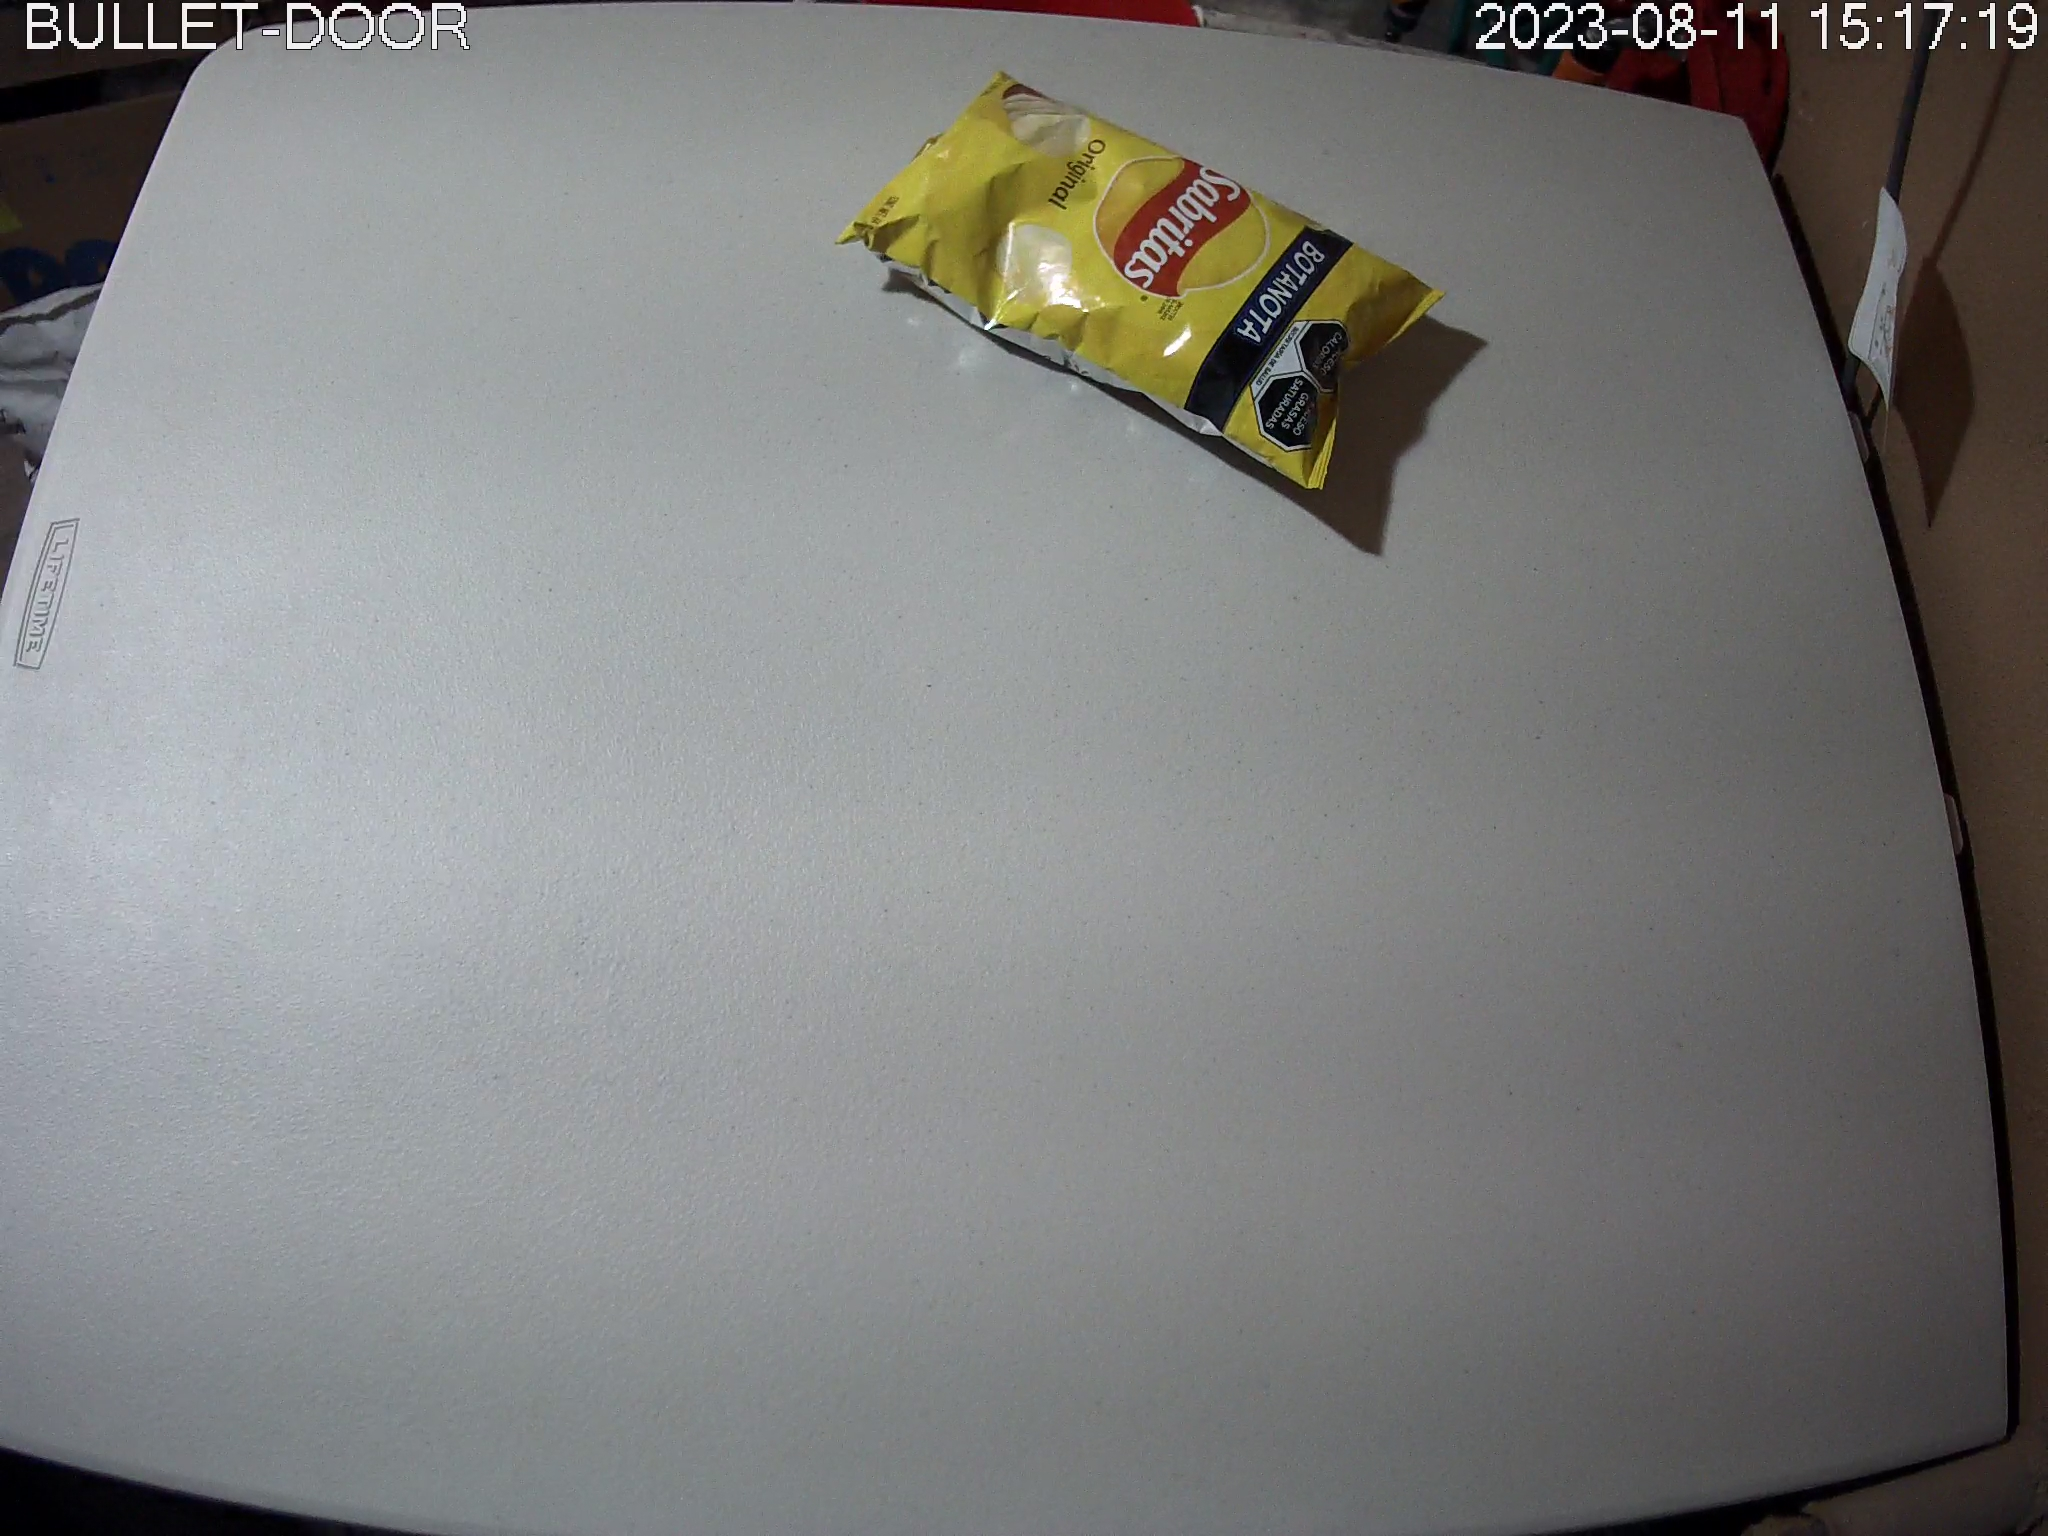Sabritas_64_F: (834, 68, 1447, 497)
